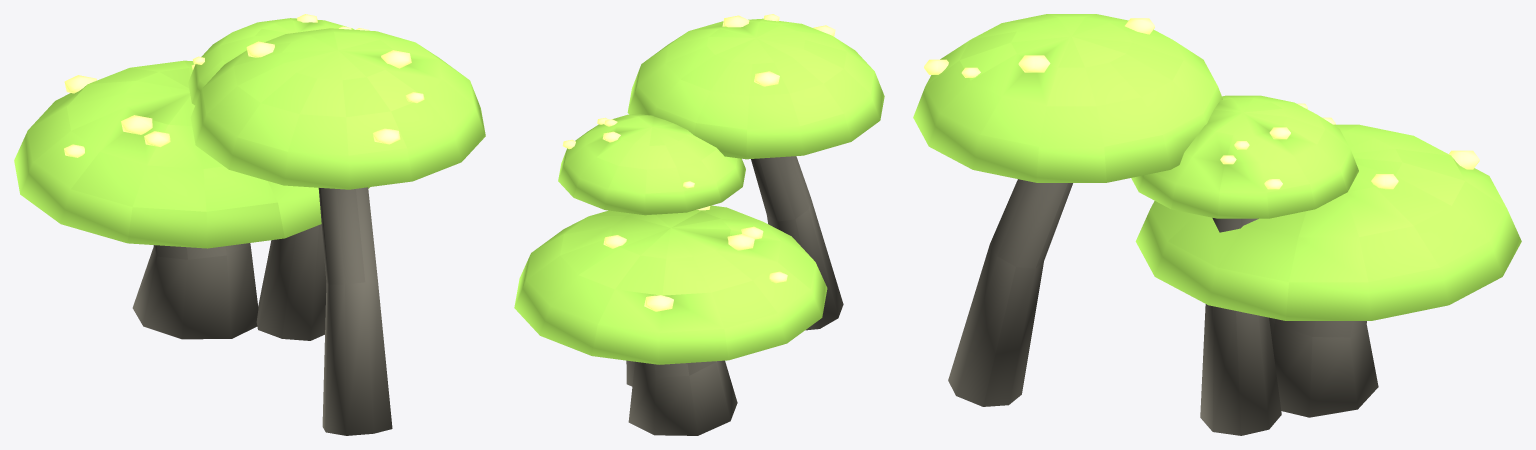
The model's file is obj_deco_hongos_2.glb.
The picture shows the model from 3 angles, left to right: view 1: azimuth 30°, elevation 25°; view 2: azimuth 150°, elevation 25°; view 3: azimuth 270°, elevation 25°; orthographic projection. The views are drawn at different scales.
Parts seen in each view (by area): view 1: propforge-libre-deco_hongos; view 2: propforge-libre-deco_hongos; view 3: propforge-libre-deco_hongos.
Part boxes in pixels (x1,y1,x2,y2): propforge-libre-deco_hongos: [14, 14, 485, 435]; propforge-libre-deco_hongos: [514, 14, 884, 435]; propforge-libre-deco_hongos: [913, 14, 1521, 435].
Bounding box in the file's own units: 0.2848 × 0.3085 × 0.4597.
